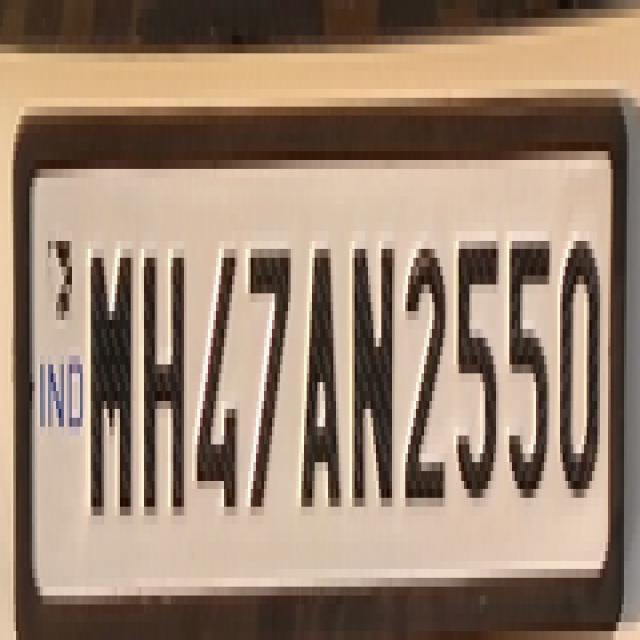0: (552, 227, 602, 510)
4: (193, 239, 244, 522)
5: (502, 212, 553, 508), (454, 227, 502, 498)
7: (246, 227, 294, 527)
A: (296, 218, 345, 530)
H: (141, 242, 191, 526)
M: (85, 235, 135, 527)
N: (350, 226, 400, 524)
